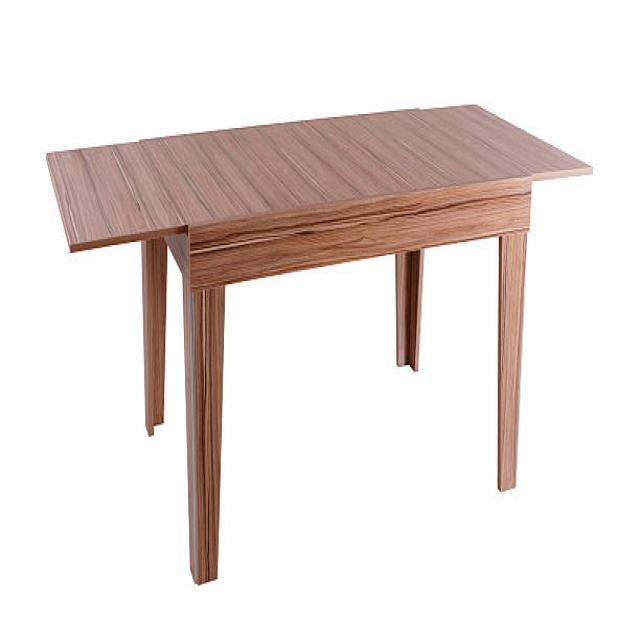table: (45, 100, 593, 584)
